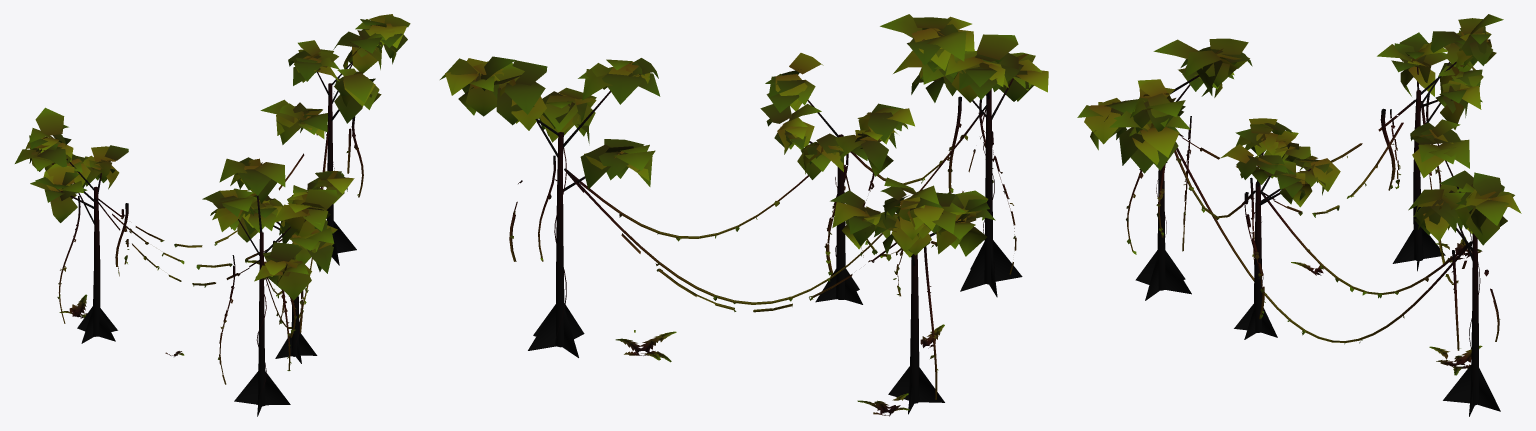
Rendered from patch_canopy_far.glb.
The picture shows the model from 3 angles, left to right: view 1: azimuth 30°, elevation 25°; view 2: azimuth 150°, elevation 25°; view 3: azimuth 270°, elevation 25°; orthographic projection. The views are drawn at different scales.
Parts seen in each view (by area): view 1: patch_canopy_far; view 2: patch_canopy_far; view 3: patch_canopy_far.
Part boxes in pixels (x1,y1,x2,y2): patch_canopy_far: (15,14,410,416); patch_canopy_far: (440,14,1048,416); patch_canopy_far: (1077,14,1521,416).
Size of the model in its own units: 22.14 by 11.86 by 18.34.
Materials: 1 (1 with a texture image).
